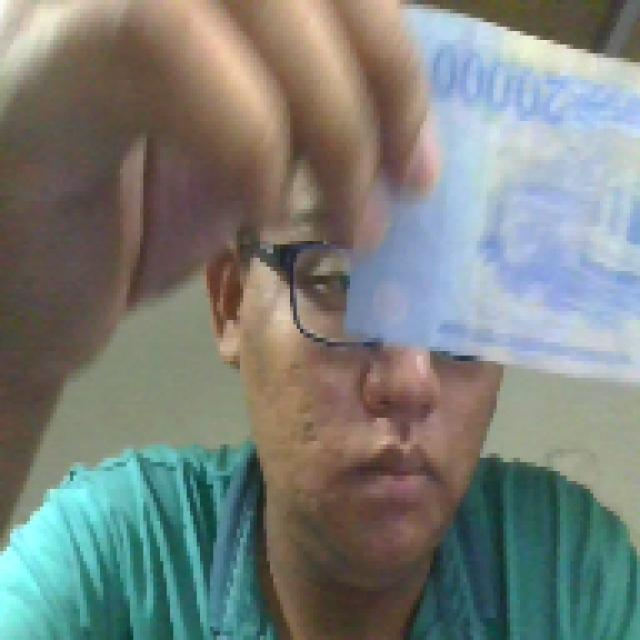20 000 VND: (336, 0, 636, 404)
